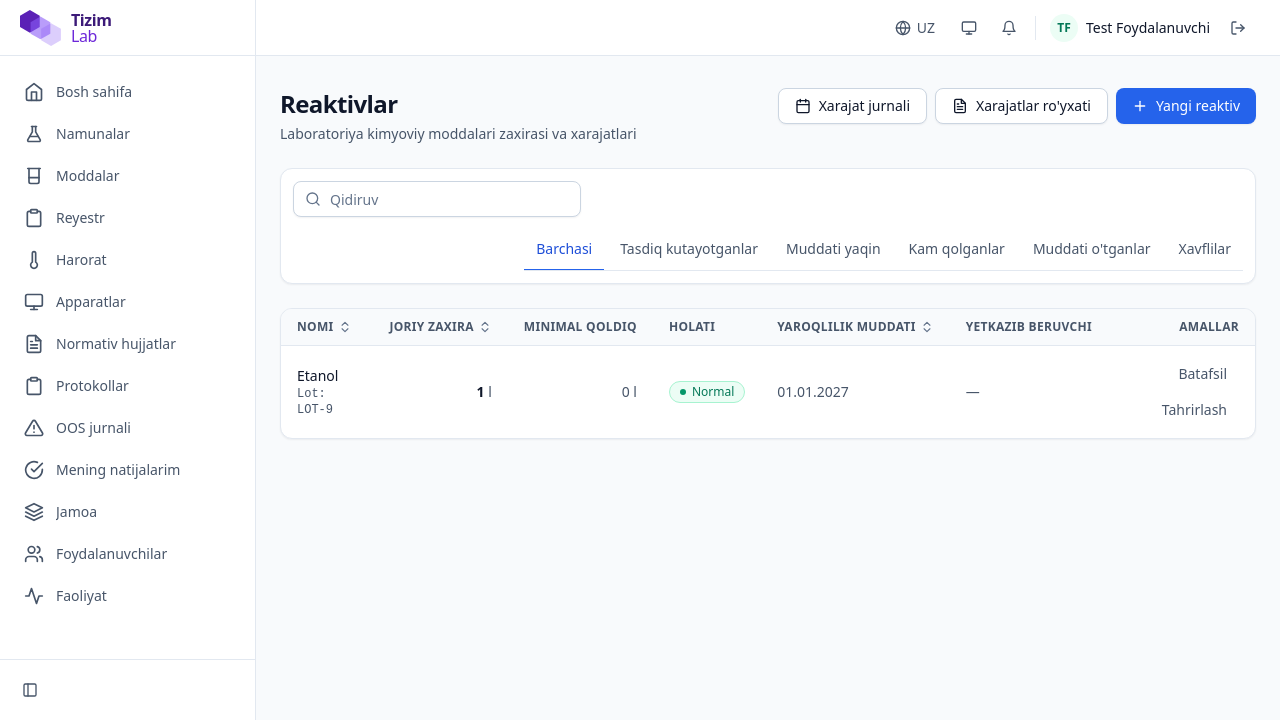
it: P18: reaktiv — lot maydonlari va AI › muddat ishlab chiqarilgan sanadan oldin — xato, so‘rov yuborilmaydi
This screenshot has width=1280, height=720.
Step 1. Click the button "Yangi reaktiv" → [1186, 106], box [1116,88,1256,124]
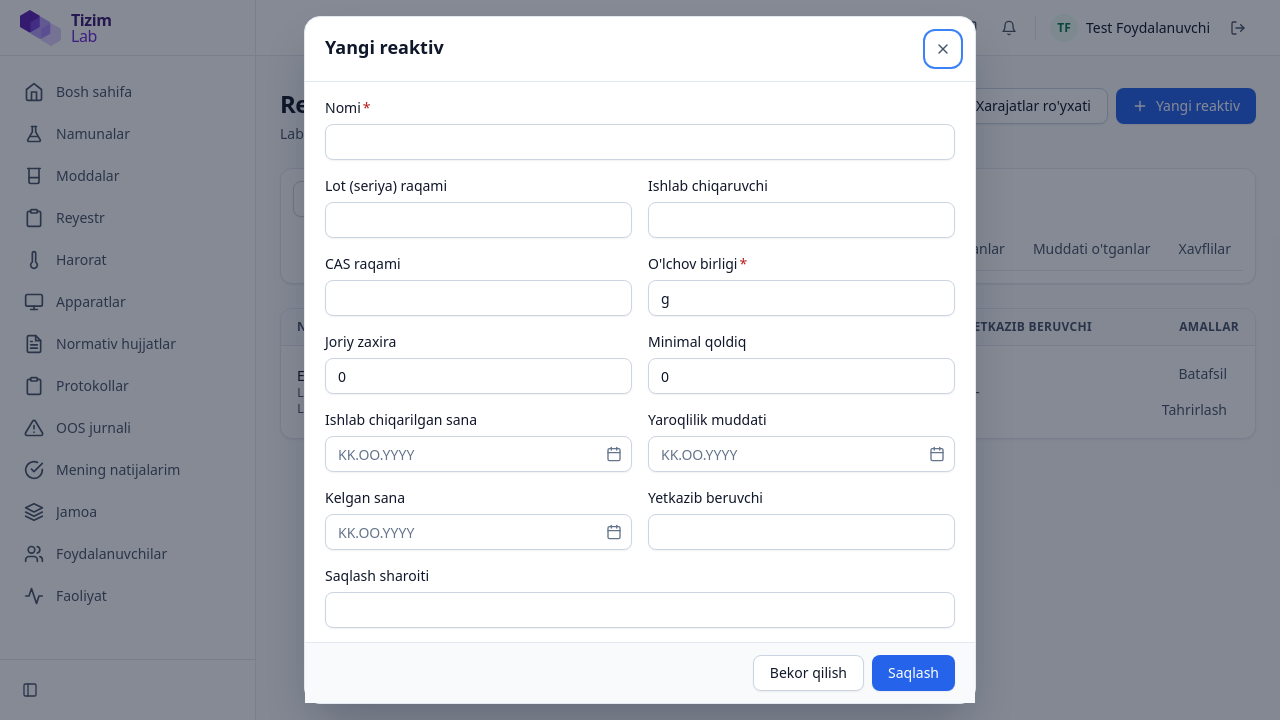
Step 2. Type "Aseton" into the field labelled "Nomi" → [640, 142], box [325,124,955,160]
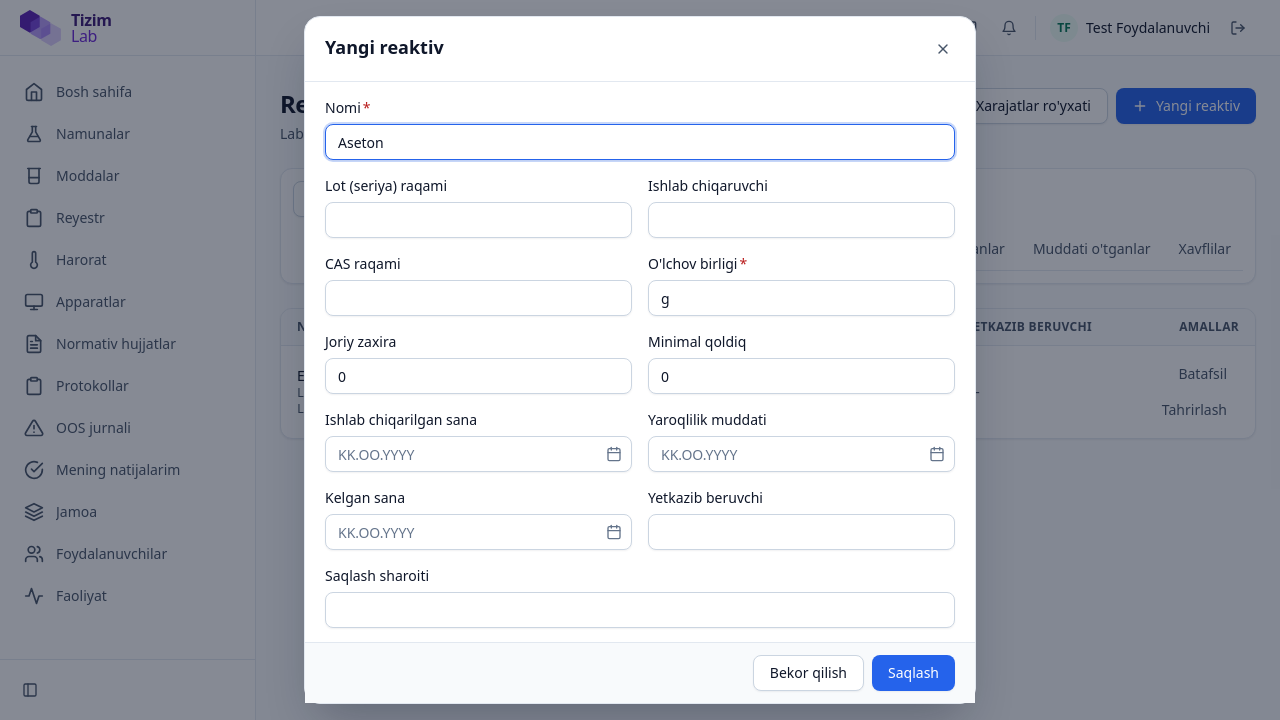
// DatePicker min cheklovini chetlab o'tish uchun avval muddat, keyin ishlab chiqarilgan sana
Step 3. Type "01.02.2026" into the field labelled "Yaroqlilik muddati" → [802, 454], box [648,436,955,472]
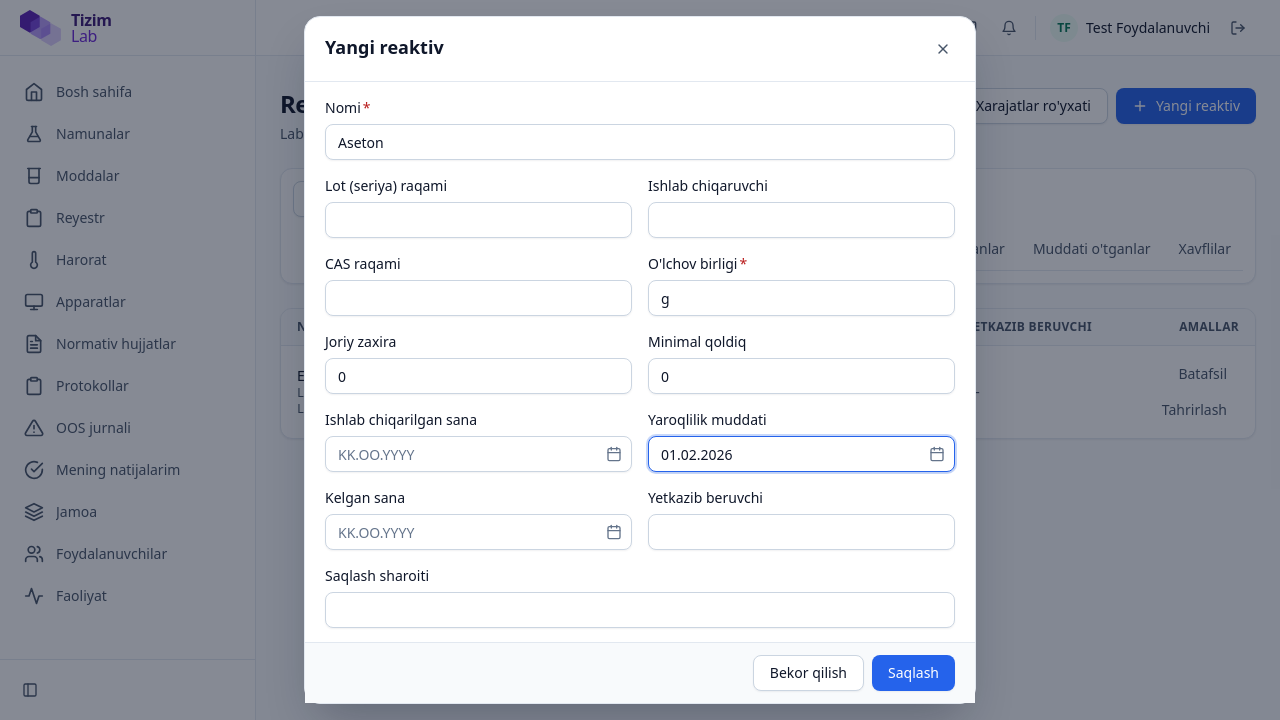
Step 4. Type "01.03.2026" into the field labelled "Ishlab chiqarilgan sana" → [478, 454], box [325,436,632,472]
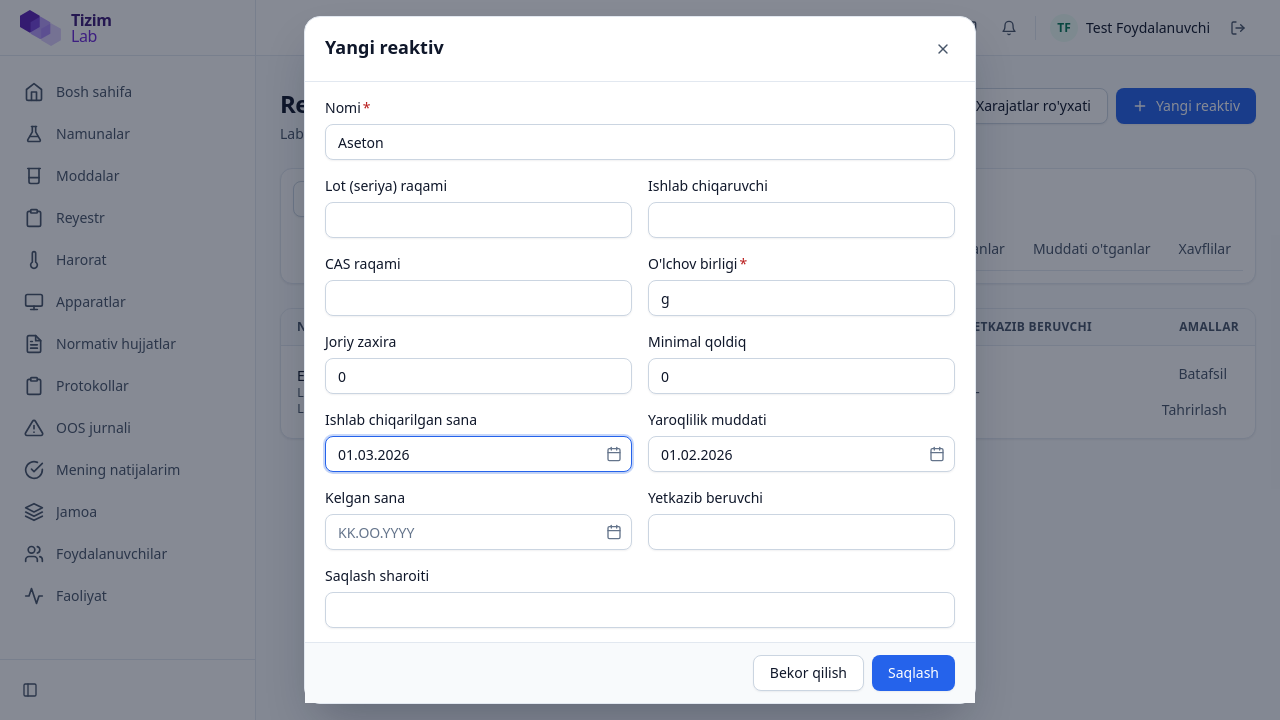
Step 5. Click the button "Saqlash" → [914, 673], box [872,655,955,691]
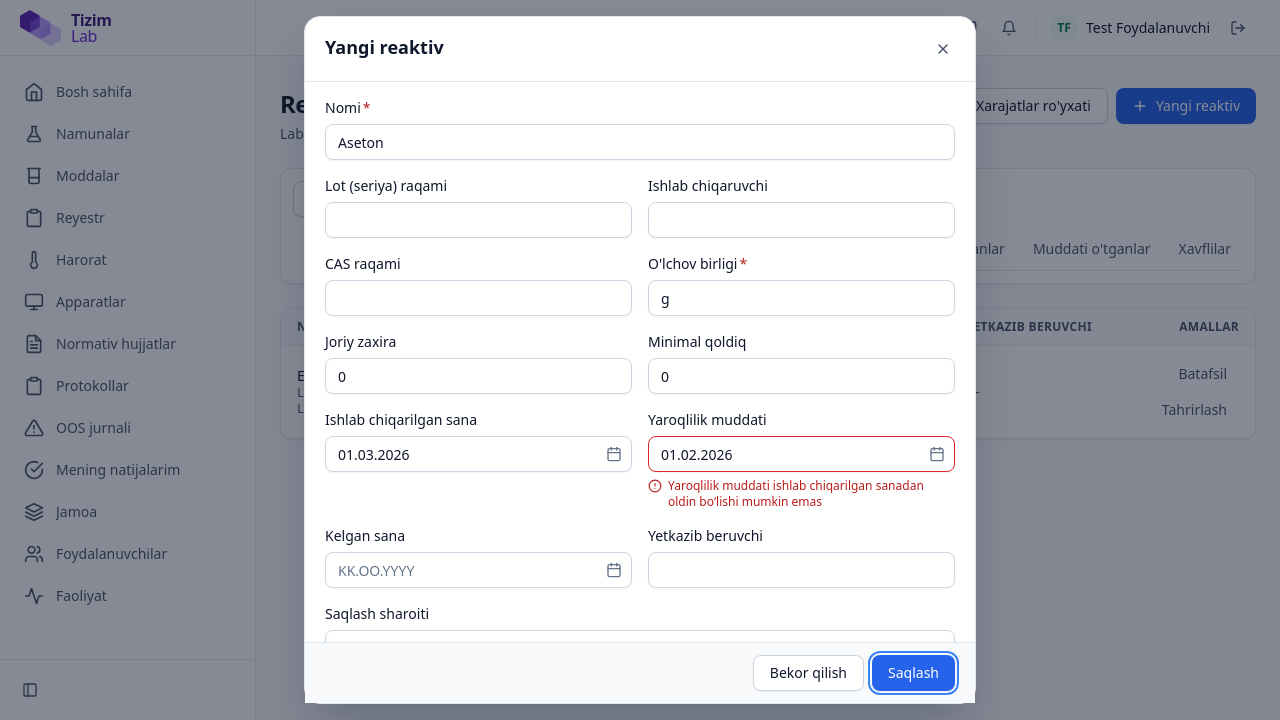
Expected: the text "Yaroqlilik muddati ishlab chiqarilgan sanadan oldin bo‘lishi mumkin emas" is shown, [668,478,955,510]
